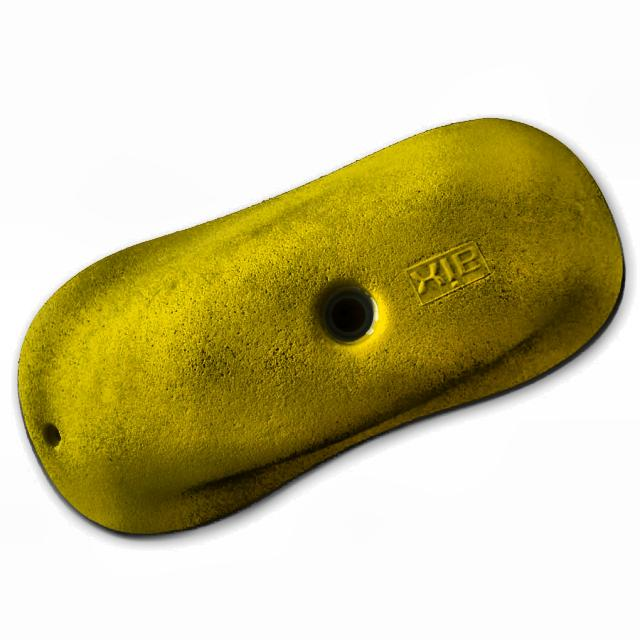Hold: (1, 87, 636, 552)
